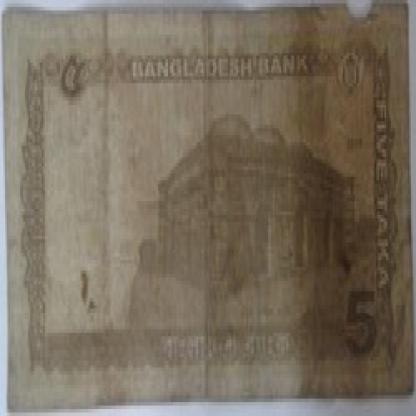Five Taka: (338, 281, 378, 360), (57, 45, 92, 111)
